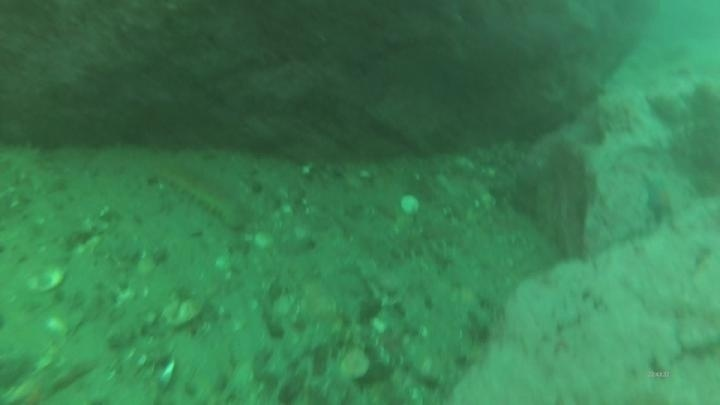holothurian: (157, 167, 249, 231), (374, 223, 467, 266), (1, 139, 68, 197)
starfish: (639, 171, 682, 229)
